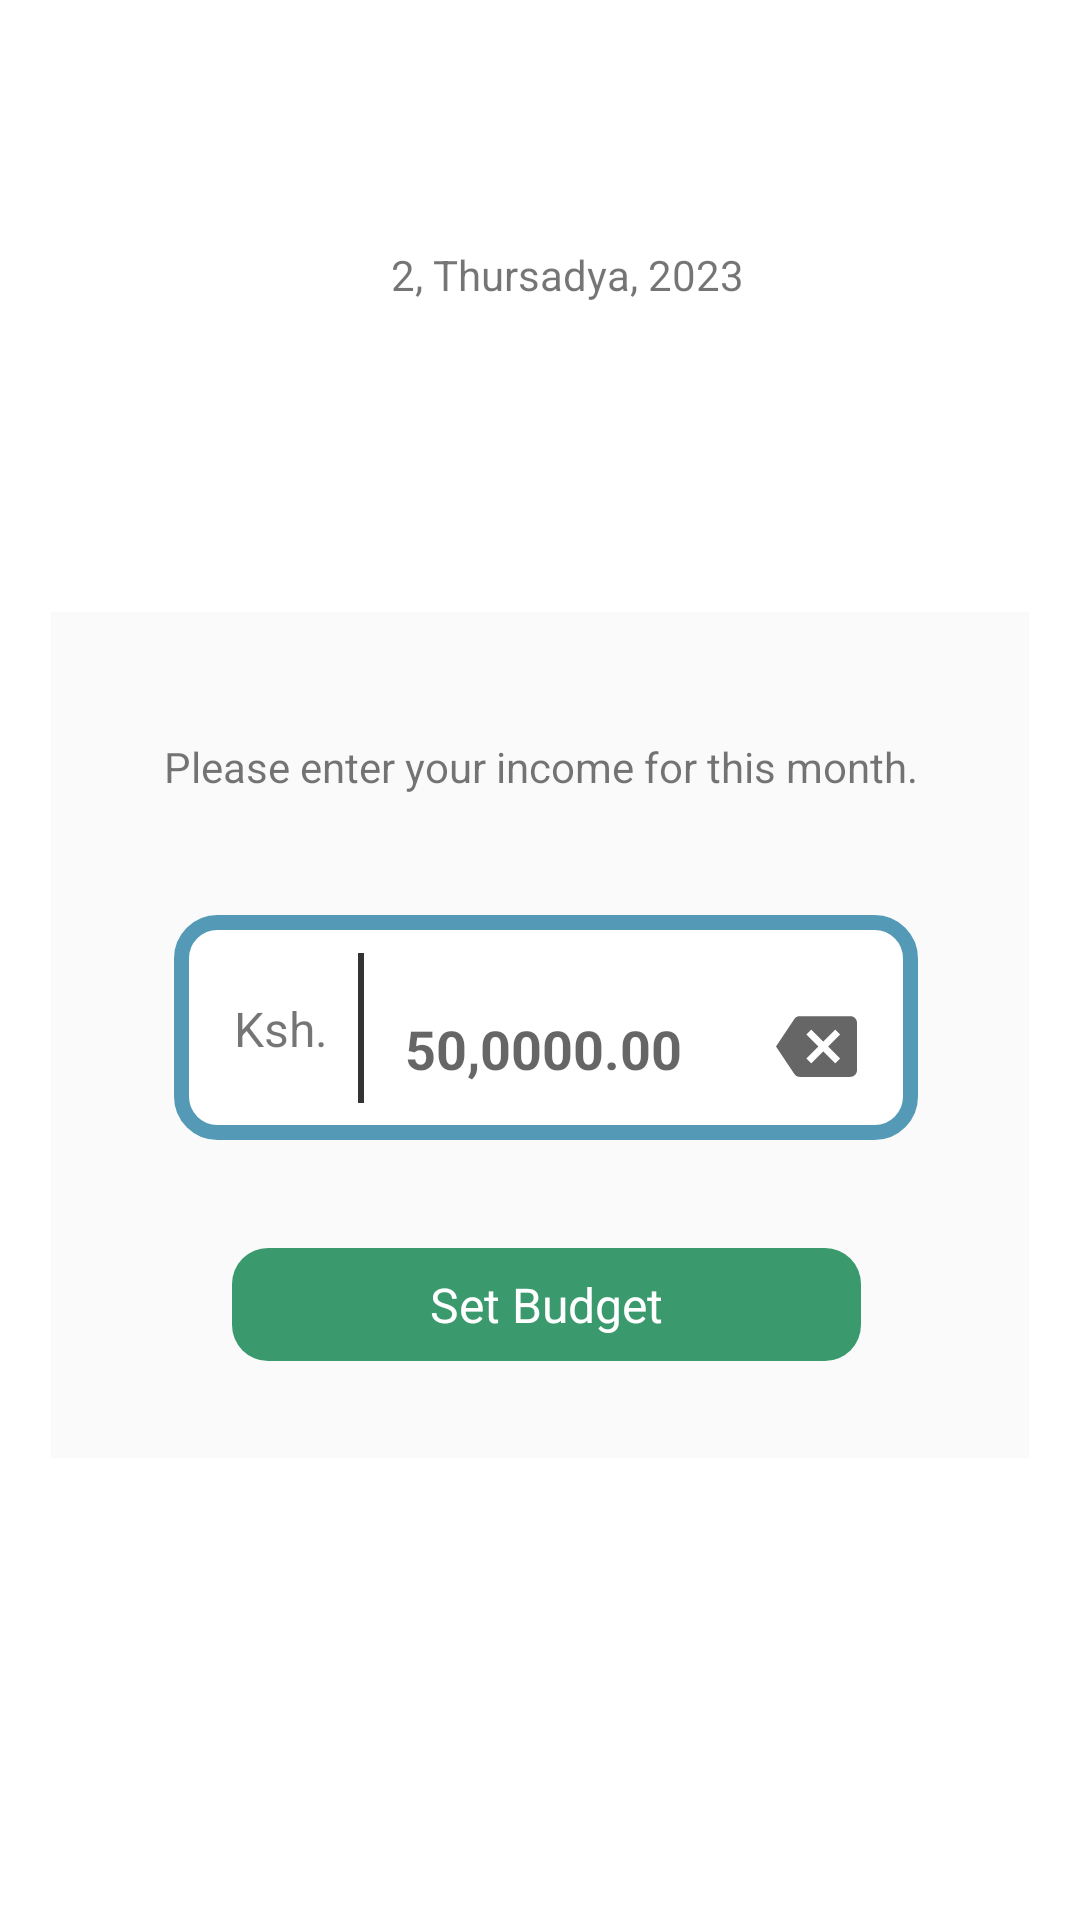

Named icons in this screenshot (1080*1920) and their bounding boxes, (x1, y1, x2, y2):
backspace: (776, 1016, 857, 1077)
